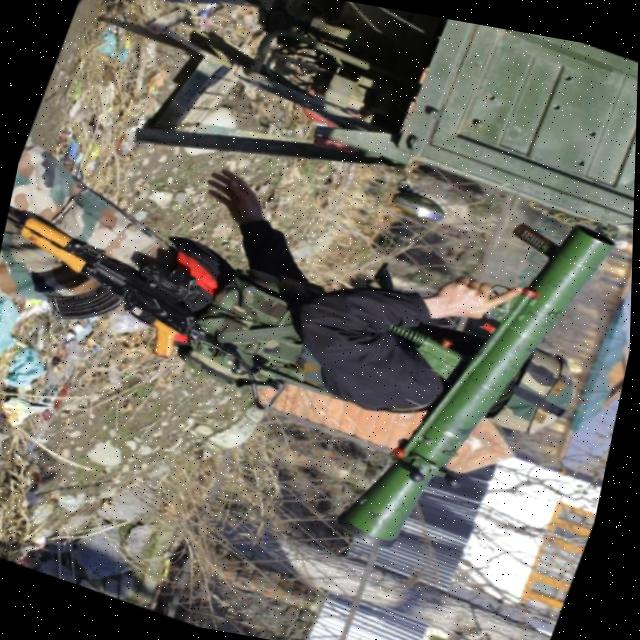rocket: (324, 165, 636, 598)
